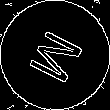M_SE: (22, 23, 88, 87)
